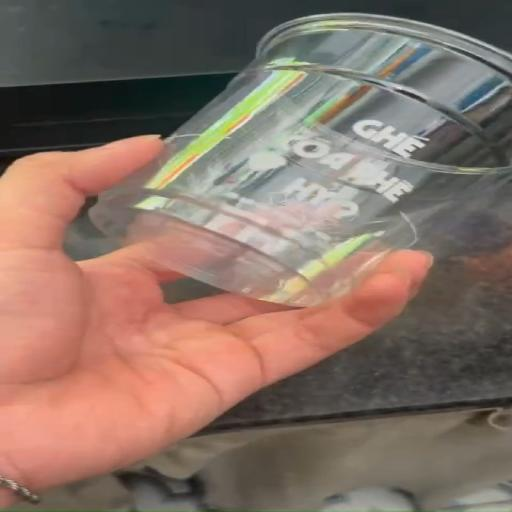ly_nhua: (90, 13, 511, 306)
